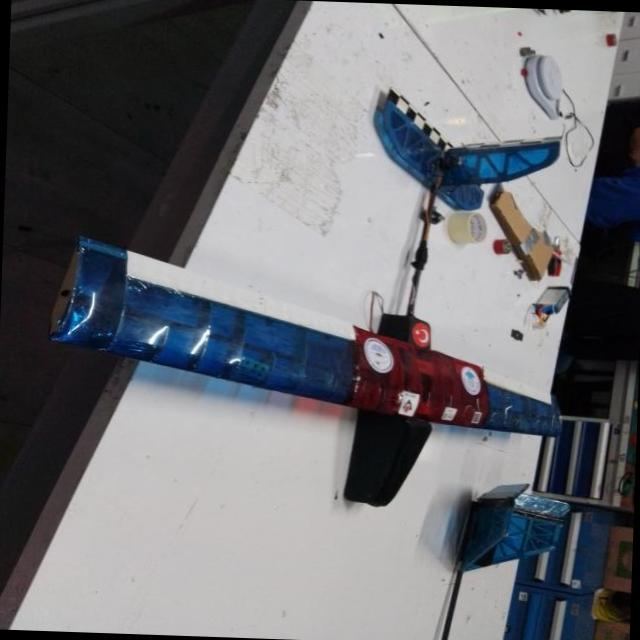UAV: (68, 59, 595, 576)
